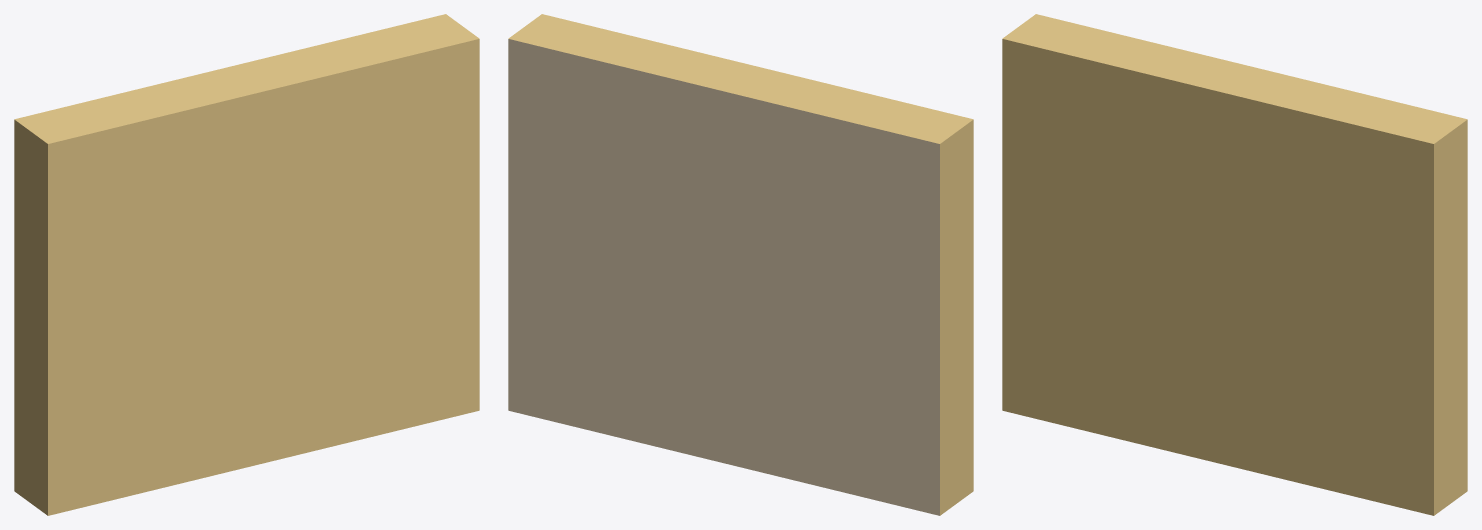
The model's file is SalleGardes_Mur00.fbx.
3 views of the same model, side by side, from view 1: azimuth 30°, elevation 25°; view 2: azimuth 150°, elevation 25°; view 3: azimuth 330°, elevation 25° (orthographic).
Visible parts, largest first — view 1: Mur00; view 2: Mur00; view 3: Mur00.
Part boxes in pixels (x1,y1,x2,y2): Mur00: (14, 14, 479, 515); Mur00: (508, 14, 973, 515); Mur00: (1002, 14, 1467, 515).
Bounding box in the file's own units: 7.88 × 6.49 × 1.07.
